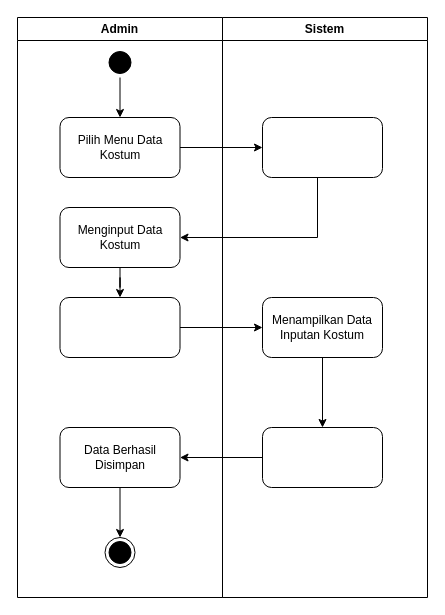
The diagram is 445 pixels wide and 615 high, and some of its shapes have lost their labels. The shapes that lost their labels are listed below. From the top down, each one's centre as x and y in pixels, then its label:
pixel 322 147: Tampil Menu Data Kostum
pixel 119 327: Memasukkan Nama dan Kriteria Kostum sesuai jenis
pixel 322 457: Simpan Data
